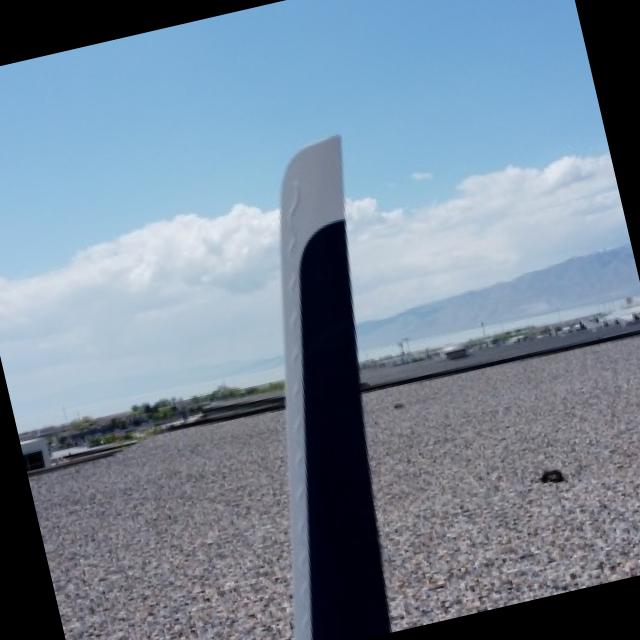healthy: (277, 133, 385, 640)
